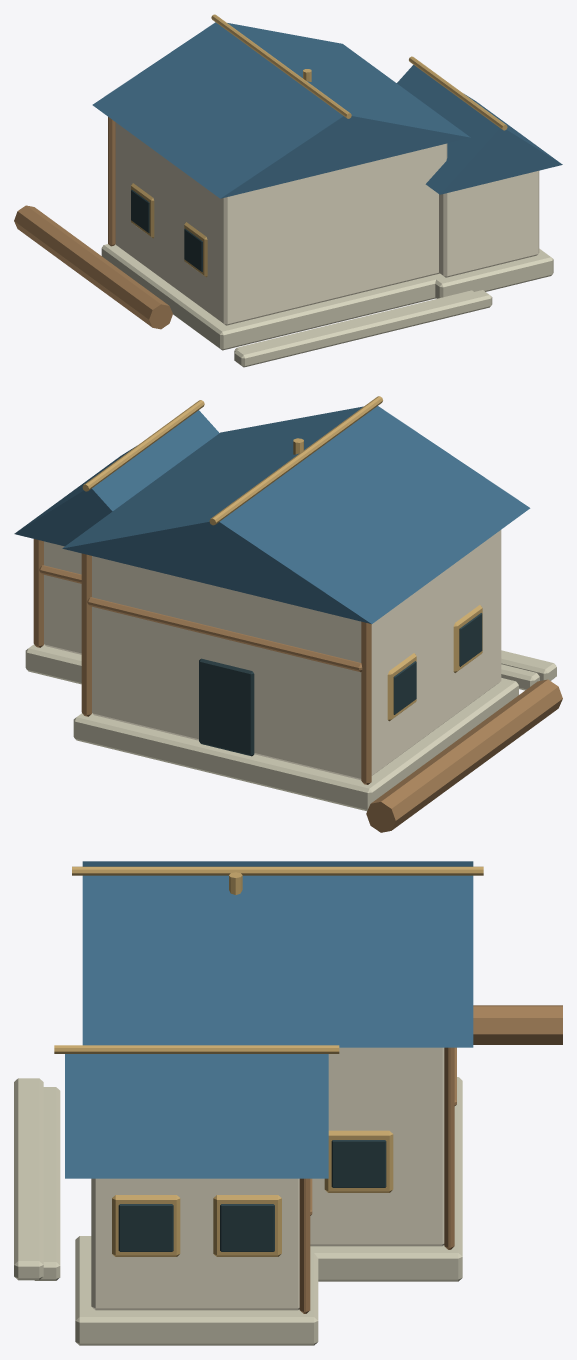
Rendered from level_13.glb.
3 views of the same model, one above another, from view 1: azimuth 30°, elevation 25°; view 2: azimuth 150°, elevation 25°; view 3: azimuth 270°, elevation 25° (orthographic). The views are drawn at different scales.
Visible parts, largest first — view 1: timber_yard — level 13; view 2: timber_yard — level 13; view 3: timber_yard — level 13.
Boxes of the visible parts, left/top/right/bottom form: timber_yard — level 13: left=14, top=14, right=562, bottom=367; timber_yard — level 13: left=14, top=396, right=562, bottom=832; timber_yard — level 13: left=14, top=861, right=562, bottom=1345.
Size of the model in its own units: 6.43 by 3.42 by 5.2.
